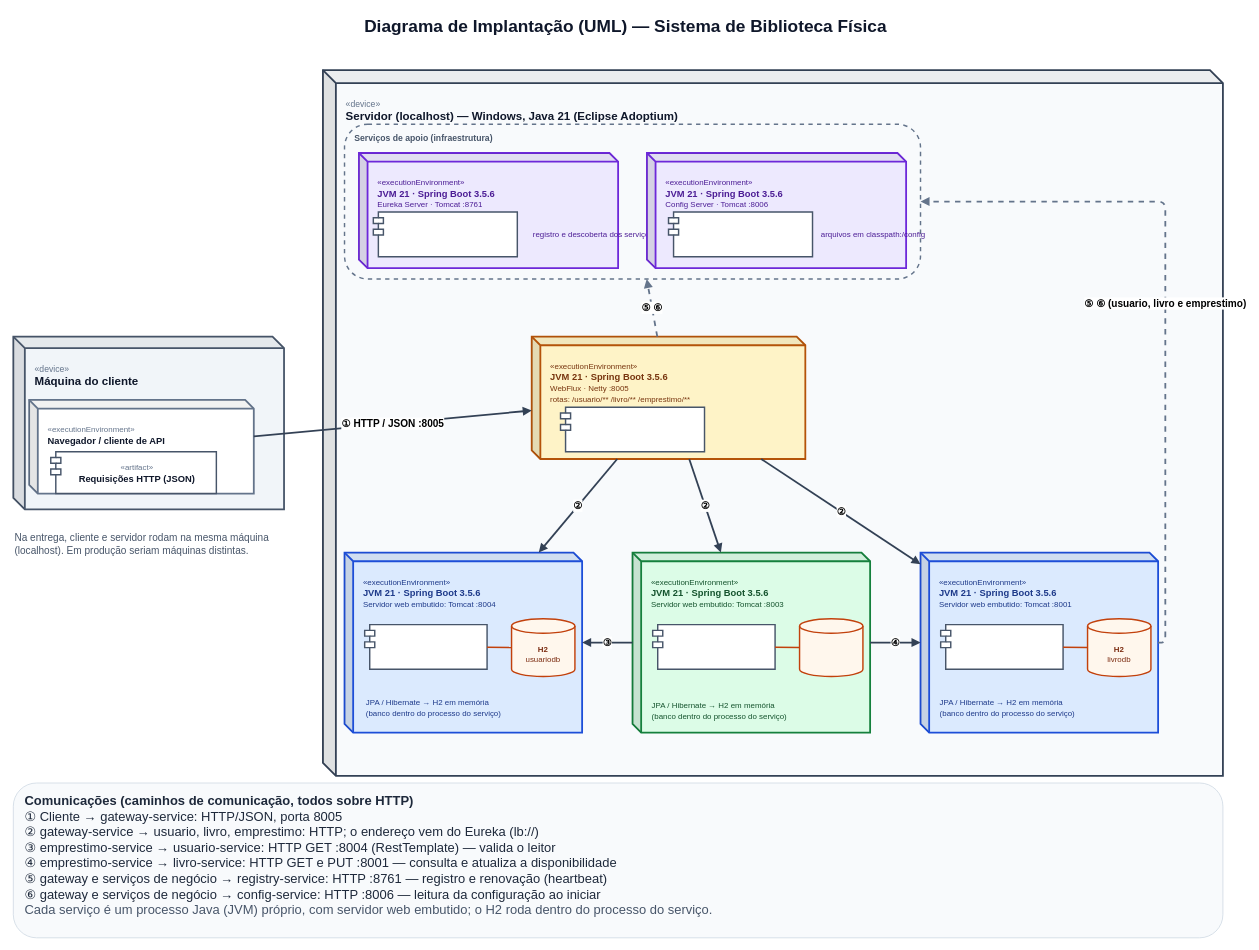
This 1259x950 diagram has some shape labels left out. The shapes that lost their labels are listed below. From the top down, each one's centre as x and y in pixels, then its label:
At (445,234): "«artifact» registry-service".
At (740,234): "«artifact» config-service".
At (632,429): "«artifact» gateway-service".
At (425,647): "«artifact» usuario-service".
At (713,647): "«artifact» emprestimo-service".
At (830,647): "H2 emprestimodb".
At (1001,647): "«artifact» livro-service".
